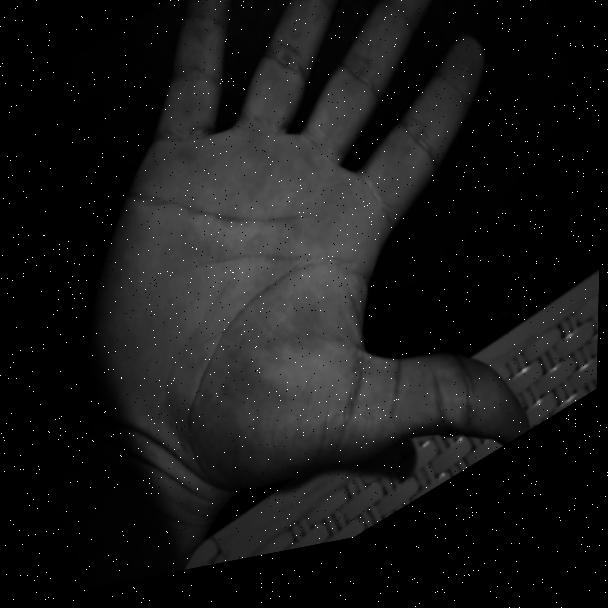five: (0, 0, 608, 606)
